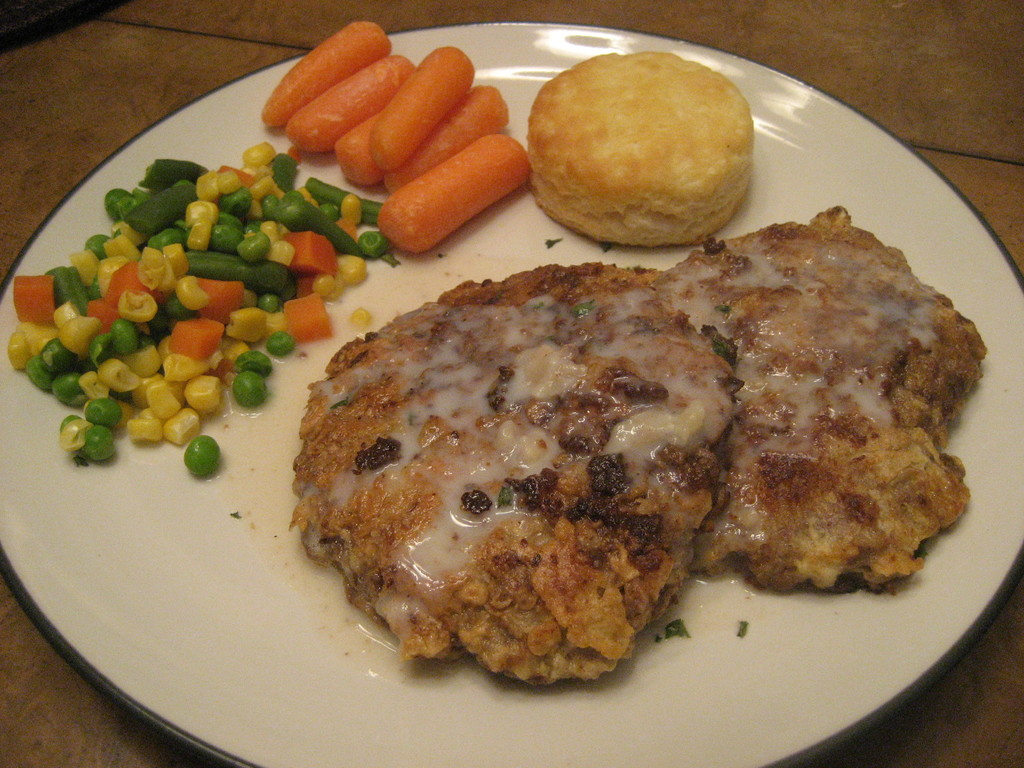Carrot: (260, 21, 530, 252)
